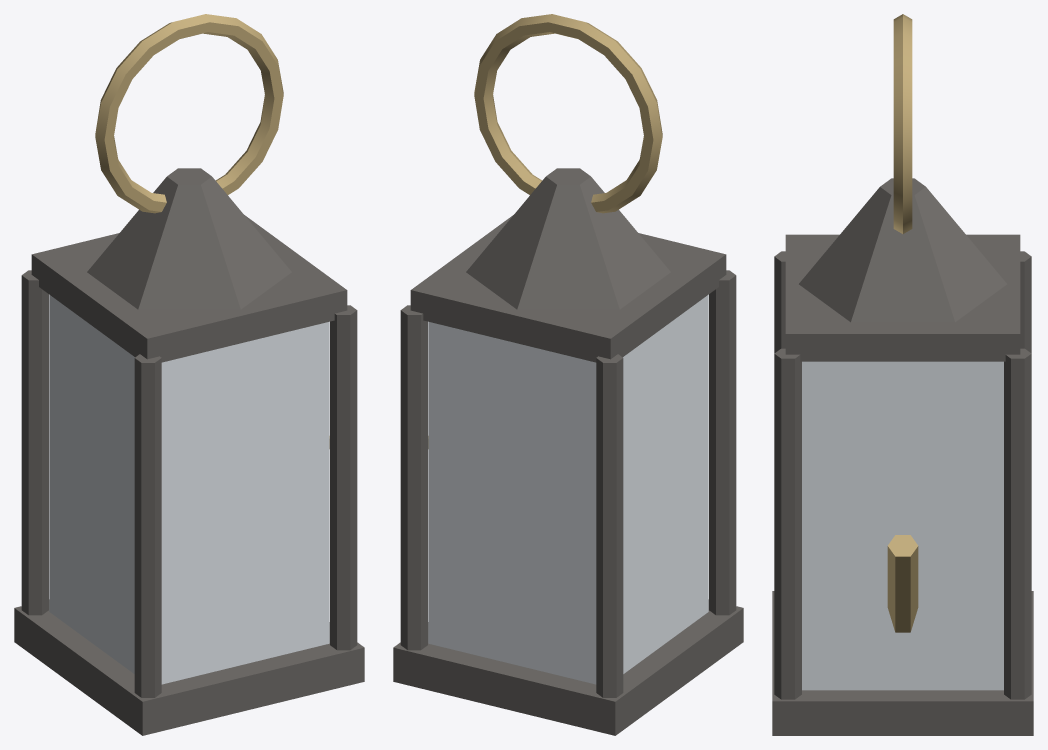
Rendered from ember-lantern-v01.glb.
3 views of the same model, side by side, from view 1: azimuth 30°, elevation 25°; view 2: azimuth 150°, elevation 25°; view 3: azimuth 270°, elevation 25° (orthographic).
Parts seen in each view (by area): view 1: ember-lantern; view 2: ember-lantern; view 3: ember-lantern.
Boxes of the visible parts, x1,y1,x2,y2 form: ember-lantern: (14, 14, 364, 735); ember-lantern: (393, 14, 743, 735); ember-lantern: (772, 14, 1033, 735).
Size of the model in its own units: 0.3861 by 0.9418 by 0.34.
